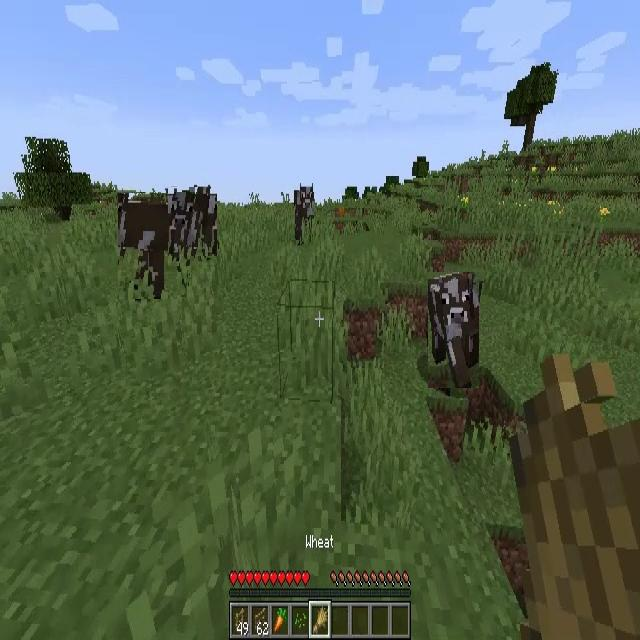cow: (118, 193, 177, 299), (428, 272, 479, 388), (168, 187, 198, 266), (192, 182, 217, 256), (293, 181, 315, 243)
